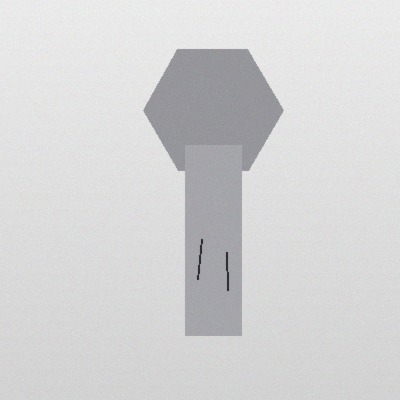scratch: (191, 235, 207, 283), (220, 248, 233, 294)
